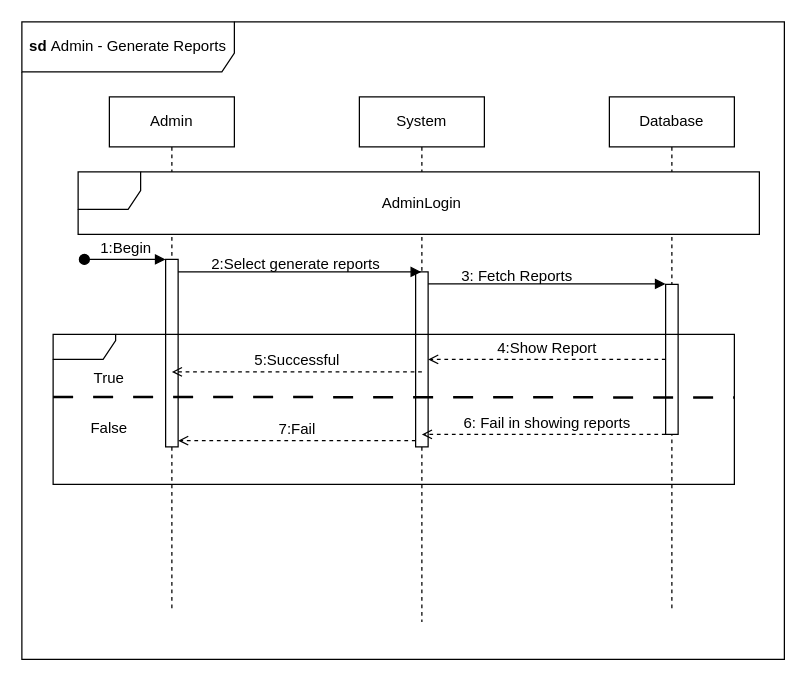
This 806x681 diagram has some shape labels left out. Each missing label, with the box of its shape:
alt: (52, 333, 734, 484)
Ref: (77, 171, 759, 234)
